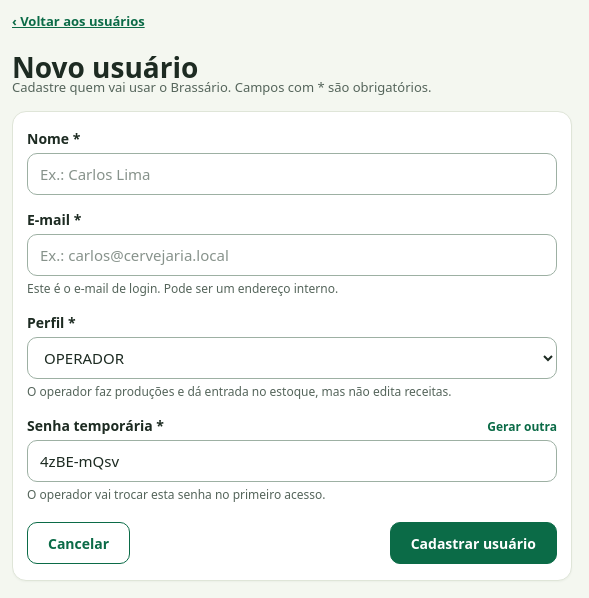
Test: NovoUsuario › a dica do perfil muda ao escolher ADMIN
Select "ADMIN" in the dropdown labelled "Perfil *" at x=292, y=358, box [27, 337, 557, 379]
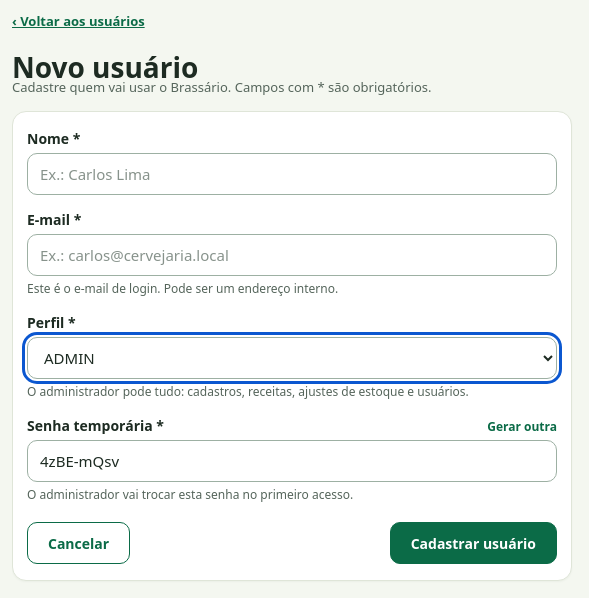
Check: the text "O administrador pode tudo" is shown, box [27, 383, 469, 400]
